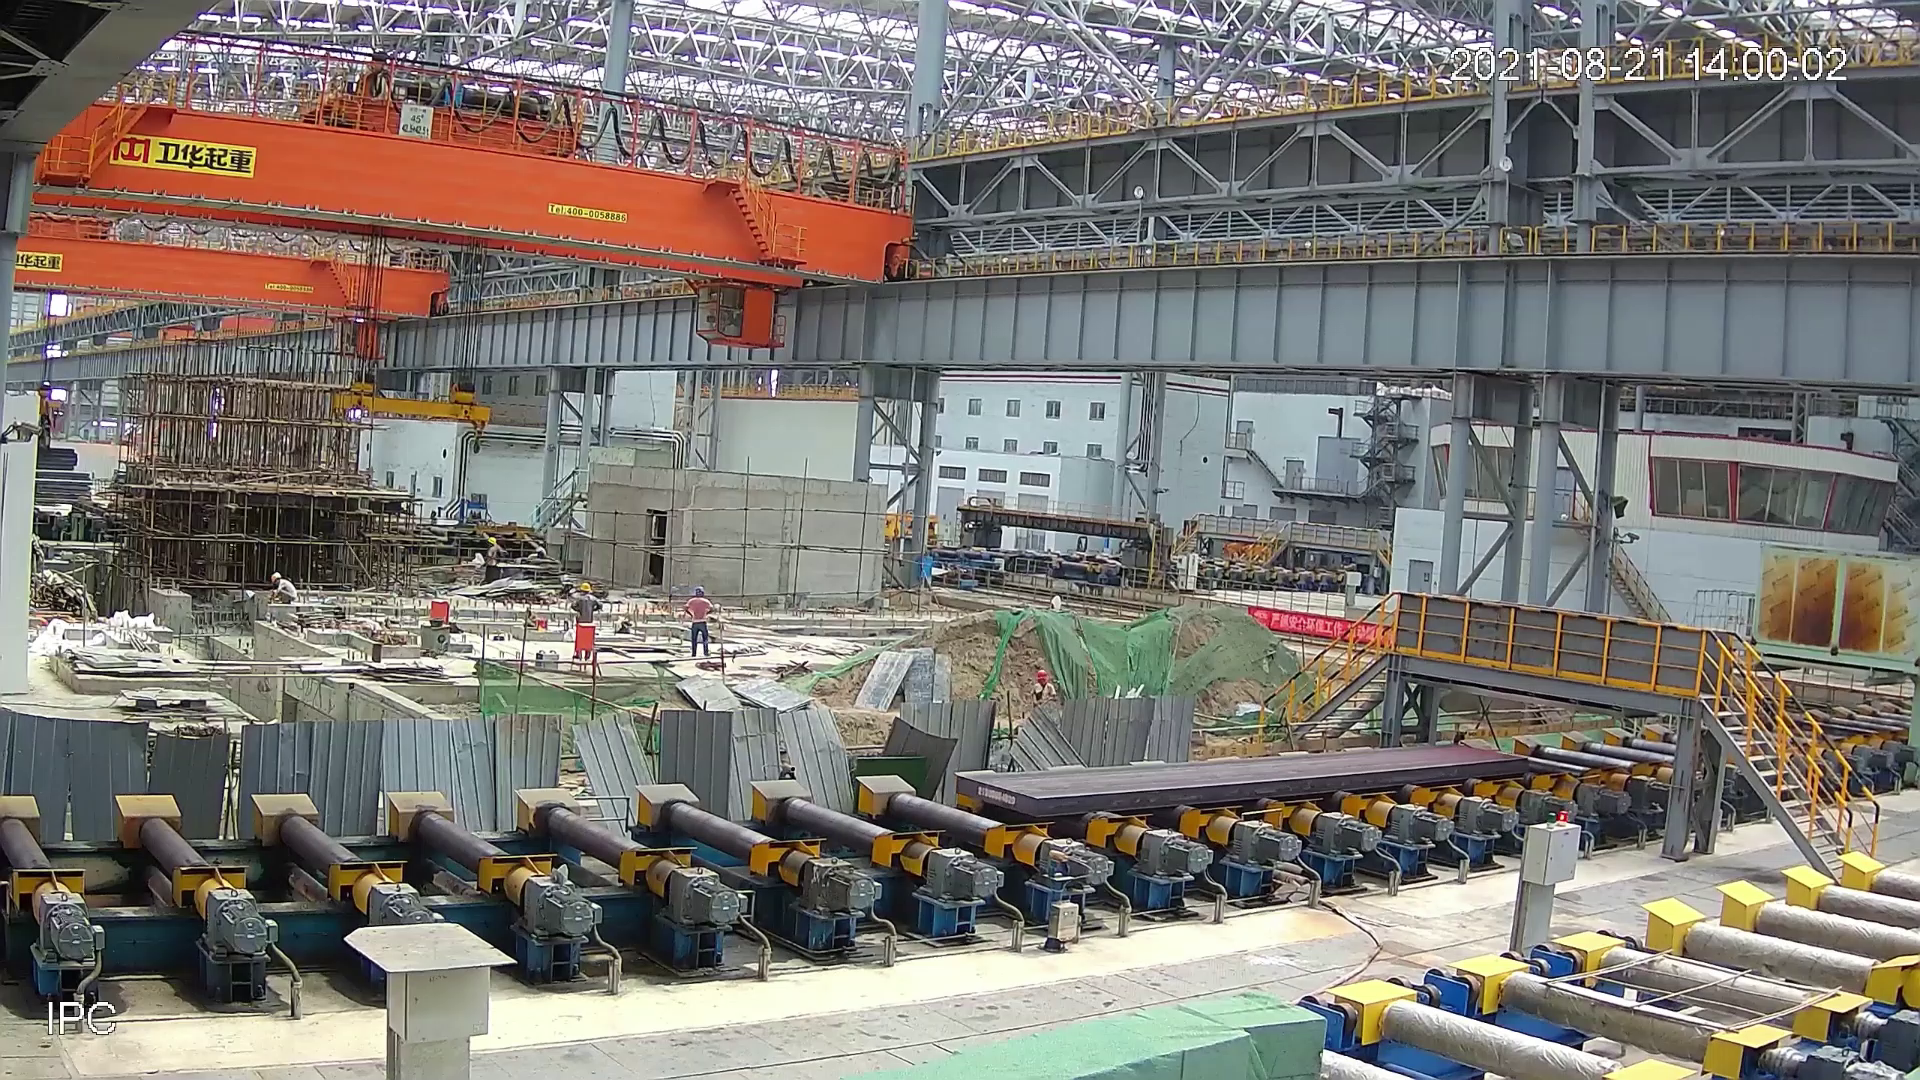slab: (945, 738, 1530, 815)
